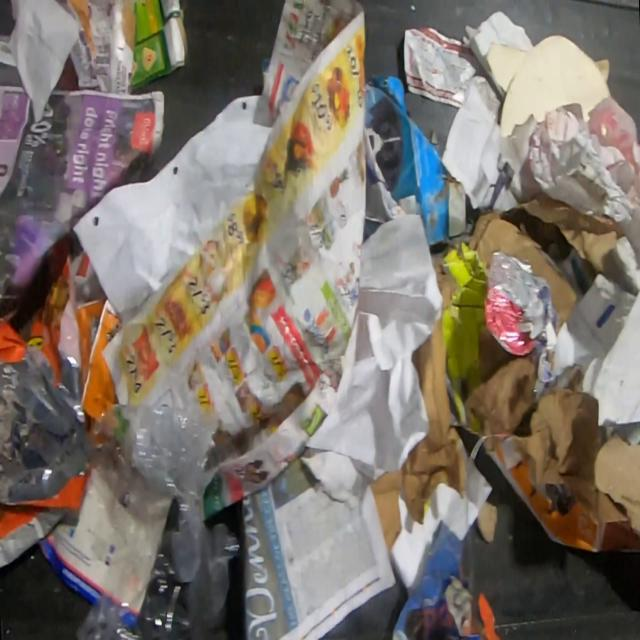cardboard: (430, 207, 578, 437), (370, 312, 469, 553), (364, 71, 476, 248), (511, 385, 629, 527), (555, 233, 640, 428), (64, 0, 135, 93), (592, 428, 640, 542), (130, 0, 189, 90), (476, 499, 499, 545)
rigid_plastic: (586, 95, 640, 199)
soft_plastic: (74, 401, 242, 639), (0, 247, 121, 506), (482, 249, 557, 397)
